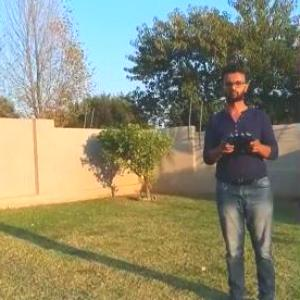follow: (197, 60, 291, 299)
